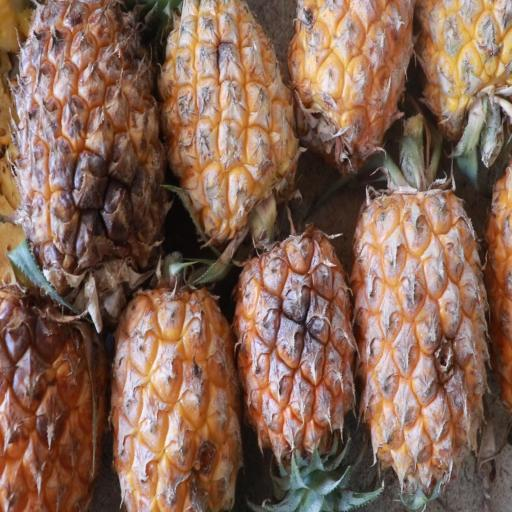Pineapple - v8 v1: (8, 0, 161, 314), (351, 174, 492, 492), (155, 4, 298, 250), (110, 266, 243, 512), (232, 226, 359, 465), (0, 293, 114, 512), (287, 0, 417, 172), (413, 0, 512, 176)
